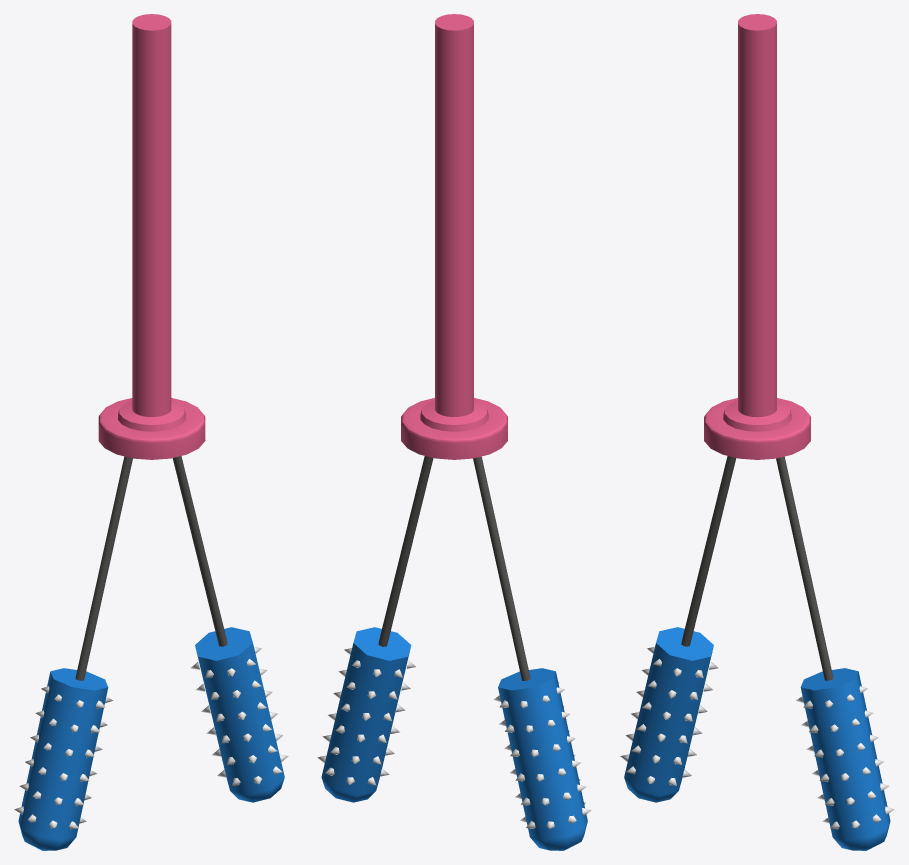
The model's file is trap_07.fbx.
3 views of the same model, side by side, from view 1: azimuth 30°, elevation 25°; view 2: azimuth 150°, elevation 25°; view 3: azimuth 330°, elevation 25° (orthographic).
Parts seen in each view (by area): view 1: trap_07; view 2: trap_07; view 3: trap_07.
Boxes of the visible parts, x1=… form: trap_07: x1=14, y1=14, x2=288, y2=850; trap_07: x1=317, y1=14, x2=591, y2=850; trap_07: x1=620, y1=14, x2=894, y2=850.
Bounding box in the file's own units: 1993 × 5847 × 706.
